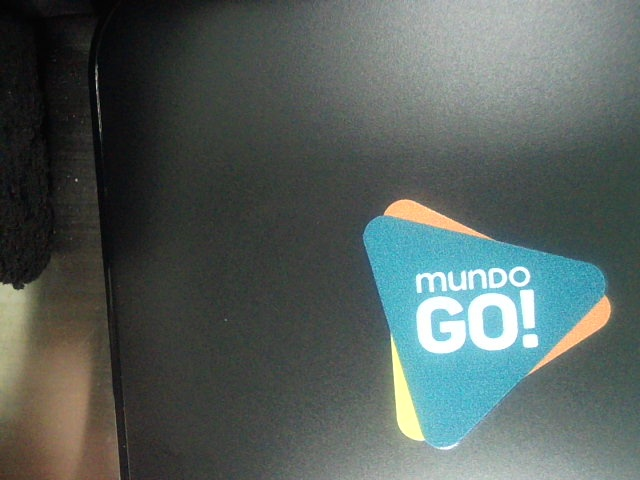AP_IPGMundoGO: (334, 191, 617, 458)
